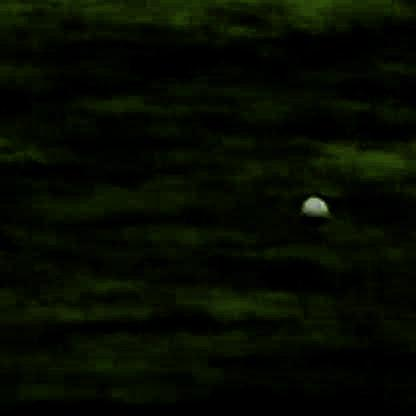golfball: (299, 194, 329, 222)
